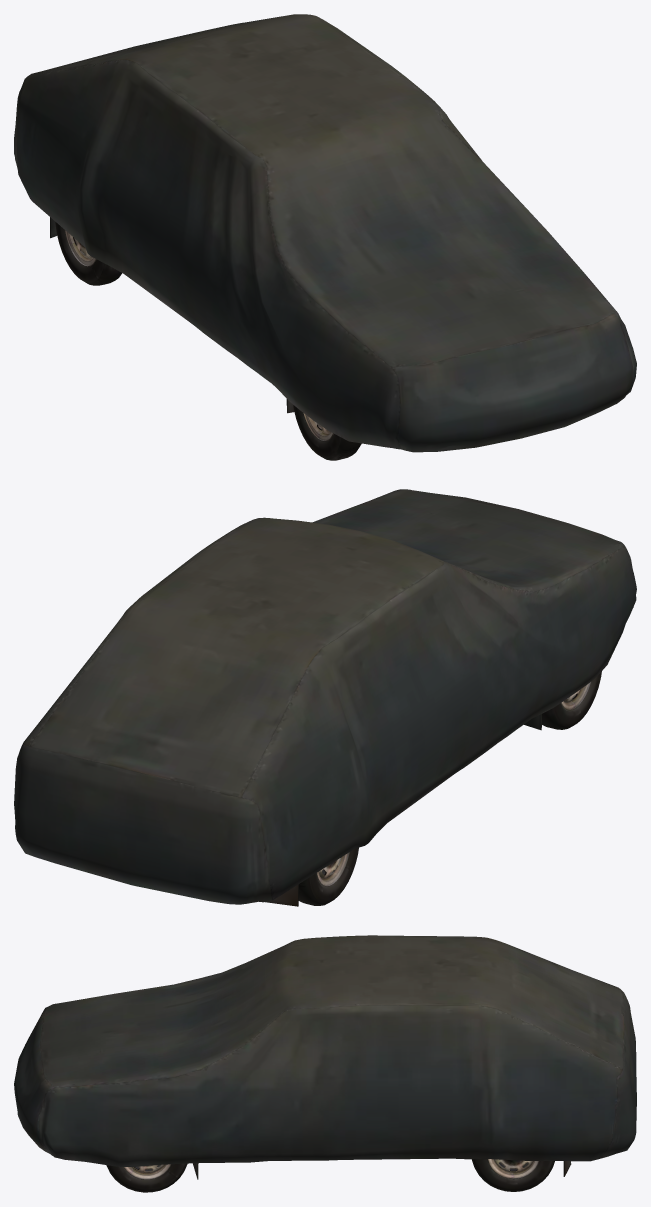
Rendered from covered_car.glb.
The picture shows the model from 3 angles, top to bottom: view 1: azimuth 30°, elevation 25°; view 2: azimuth 150°, elevation 25°; view 3: azimuth 270°, elevation 25°; orthographic projection. The views are drawn at different scales.
Visible parts, largest first — view 1: covered_car, covered_car_wheel_03, covered_car_wheel_02; view 2: covered_car, covered_car_wheel_03, covered_car_wheel_02; view 3: covered_car, covered_car_wheel_04, covered_car_wheel_01.
Part boxes in pixels (x1,y1,x2,y2): covered_car: (14, 14, 636, 452); covered_car_wheel_03: (55, 222, 121, 285); covered_car_wheel_02: (293, 405, 361, 460); covered_car: (14, 489, 636, 906); covered_car_wheel_03: (298, 847, 358, 905); covered_car_wheel_02: (542, 671, 601, 729); covered_car: (14, 935, 636, 1179); covered_car_wheel_04: (472, 1159, 554, 1191); covered_car_wheel_01: (106, 1163, 187, 1192).
Bounding box in the file's own units: 1.79 × 1.41 × 4.38.
1 material, 1 textured.
